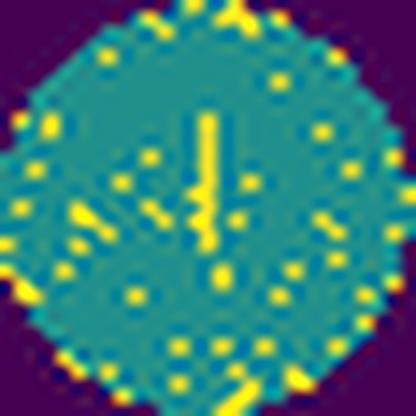Scratch: (167, 97, 242, 265)
